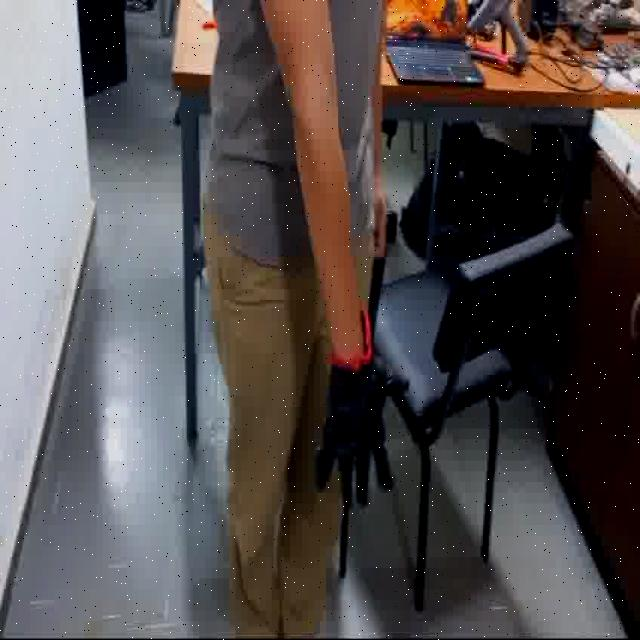Gloves: (309, 314, 410, 495)
